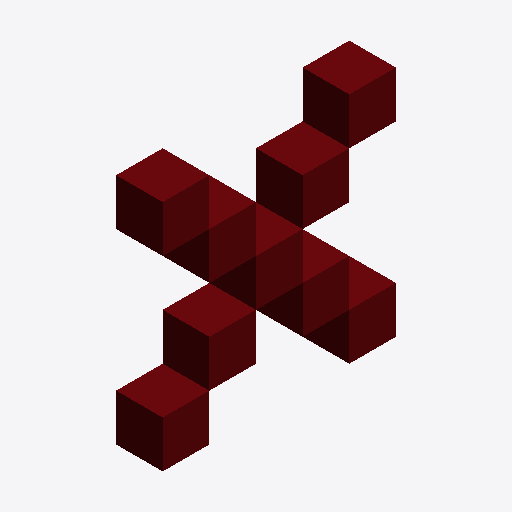
Isometric view (azimuth 45°, elevation 35.3°) of a Minecraft model made of 9 cuboids, textured from the same repository.
Visible parts, largest first — dark_candy_block_1_0, dark_candy_block_1_1, dark_candy_block_1_2, dark_candy_block_1_6, dark_candy_block_1_8, dark_candy_block_1_4, dark_candy_block_1_7, dark_candy_block_1_3, dark_candy_block_1_5.
Boxes of the visible parts, x1=… form: dark_candy_block_1_0: x1=303, y1=41, x2=395, y2=147; dark_candy_block_1_1: x1=116, y1=148, x2=208, y2=255; dark_candy_block_1_2: x1=256, y1=121, x2=348, y2=228; dark_candy_block_1_6: x1=163, y1=283, x2=255, y2=390; dark_candy_block_1_8: x1=116, y1=364, x2=208, y2=470; dark_candy_block_1_4: x1=210, y1=202, x2=302, y2=309; dark_candy_block_1_7: x1=303, y1=256, x2=395, y2=363; dark_candy_block_1_3: x1=164, y1=175, x2=255, y2=282; dark_candy_block_1_5: x1=257, y1=230, x2=348, y2=336.
Bounding box in the file's own units: 5 × 5 × 1.